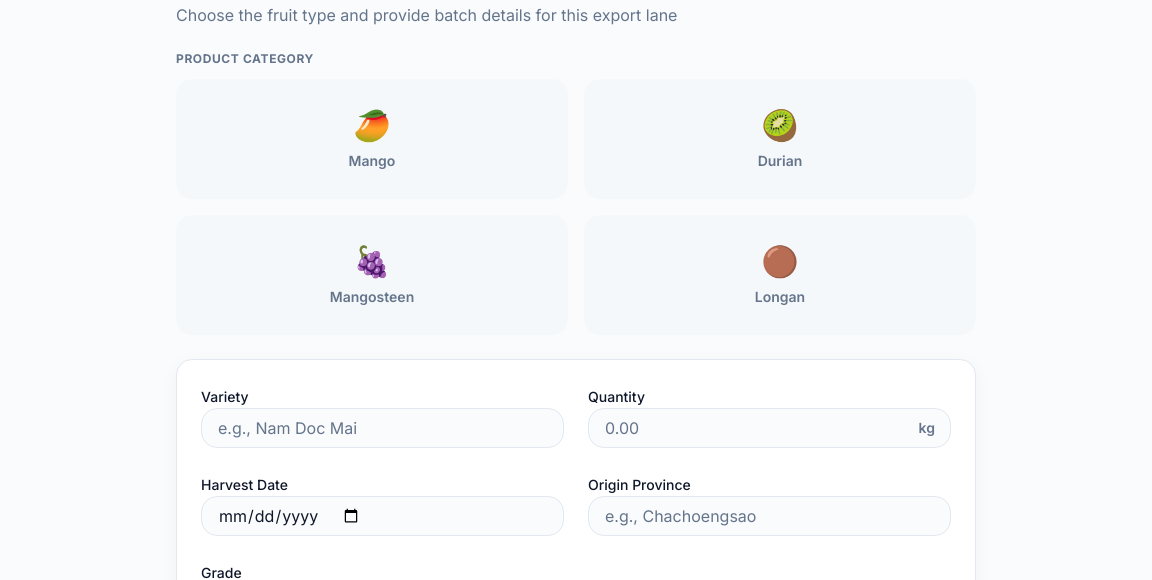
Scenario: LaneCreationWizard › shows evidence checklist when a market is selected
Note: Select product then navigate
What coordinates should you click on to do the following:
click the button with test id "product-card-MANGO"
I would click on:
 (372, 139)
Its box is [176, 79, 568, 199].
(page scrolled)
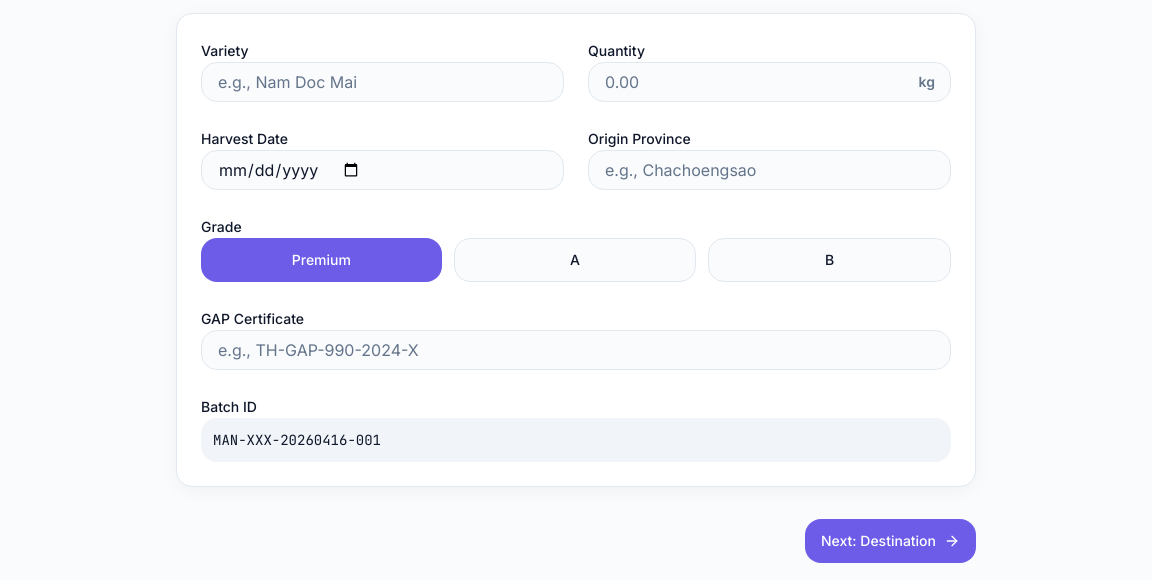
What coordinates should you click on to do the following:
click the button "Next: Destination"
I would click on:
 (890, 541)
Its box is [805, 519, 976, 563].
(page scrolled)
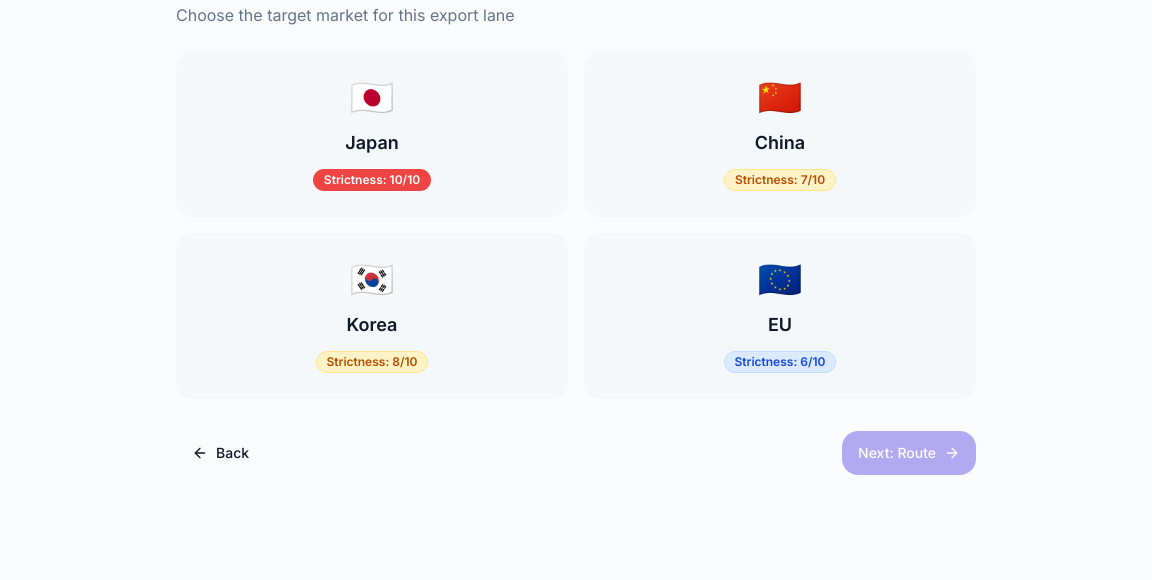
What coordinates should you click on to do the following:
click the button with test id "market-card-JAPAN"
I would click on:
 (372, 134)
Its box is [176, 51, 568, 217].
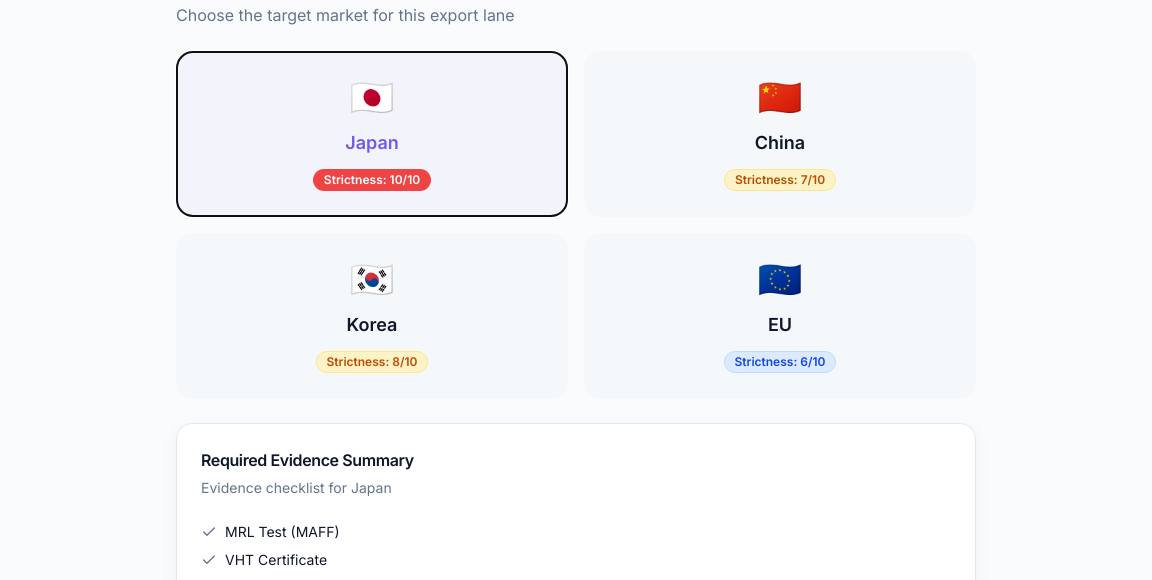
Expected: the text "Required Evidence Summary" is shown, [201, 450, 414, 470]
Expected: the list item "MRL Test (MAFF)" is shown, [201, 523, 340, 540]
